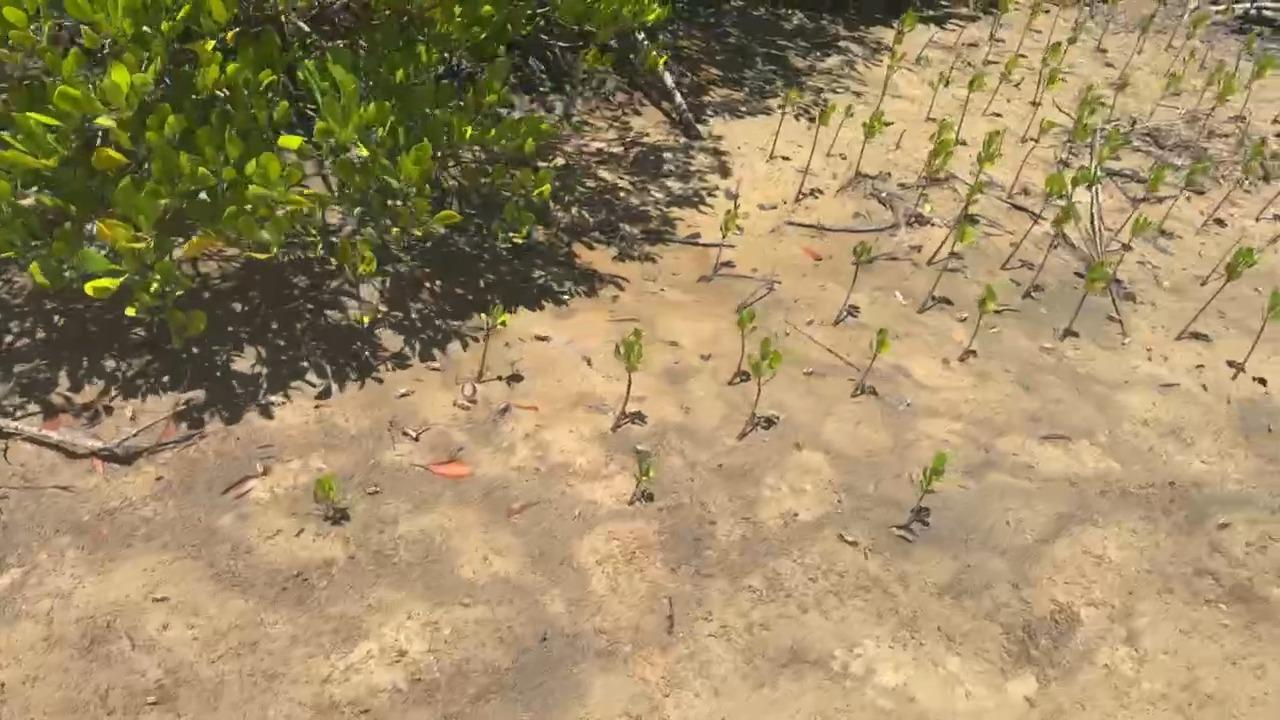Tree: (1175, 247, 1259, 340), (914, 214, 982, 316), (1000, 169, 1068, 268), (1200, 145, 1263, 228), (1021, 203, 1076, 296), (926, 184, 985, 265), (1232, 287, 1280, 382), (1008, 118, 1064, 199), (737, 337, 781, 439), (907, 143, 958, 228), (1061, 260, 1114, 341), (1157, 157, 1213, 233), (795, 96, 834, 199), (1113, 165, 1165, 241), (1020, 69, 1067, 143), (834, 239, 874, 324), (905, 452, 948, 531), (613, 327, 645, 430), (849, 326, 892, 396), (960, 285, 996, 359), (1166, 16, 1208, 77), (916, 117, 956, 180), (477, 304, 510, 380), (954, 71, 988, 144), (770, 83, 800, 161), (1114, 216, 1154, 274), (981, 55, 1018, 115), (1202, 73, 1239, 132), (1092, 124, 1129, 182), (853, 110, 885, 177), (729, 308, 756, 387), (1240, 55, 1274, 115), (981, 0, 1013, 63), (1147, 66, 1183, 122), (1032, 39, 1063, 104), (1135, 0, 1170, 56), (1202, 238, 1242, 287), (975, 126, 1010, 179), (889, 9, 921, 65), (630, 444, 657, 506), (1015, 0, 1044, 54), (828, 103, 855, 157), (1197, 61, 1227, 109), (1106, 71, 1137, 117), (715, 212, 738, 271), (1075, 85, 1105, 127), (1068, 159, 1098, 199), (877, 62, 900, 110), (925, 71, 945, 124), (1232, 33, 1255, 75), (312, 477, 335, 518), (1059, 28, 1083, 65), (1044, 0, 1063, 45), (915, 33, 942, 64), (1257, 192, 1280, 224), (1099, 12, 1116, 48), (1198, 34, 1215, 69), (1165, 16, 1181, 53), (1179, 45, 1198, 75)
